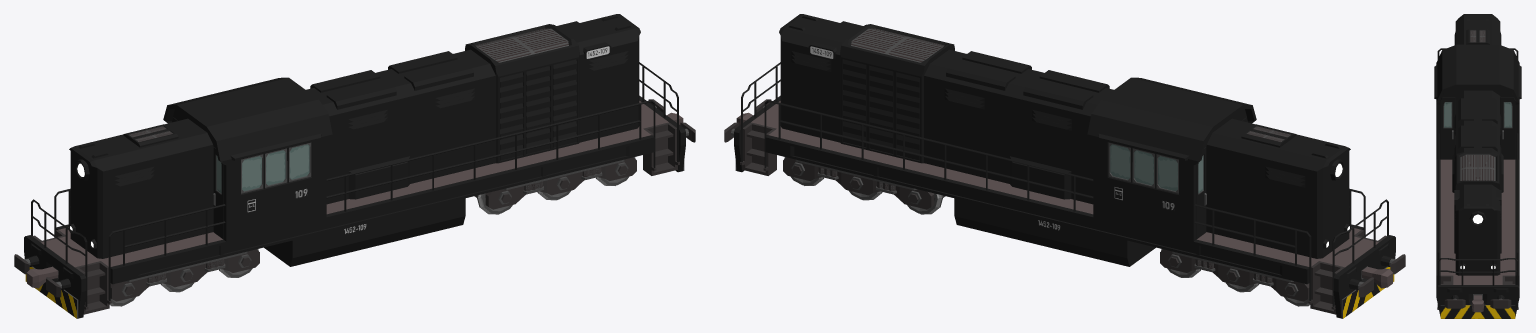
The model's file is train-locomotive.glb.
3 views of the same model, side by side, from view 1: azimuth 30°, elevation 25°; view 2: azimuth 150°, elevation 25°; view 3: azimuth 270°, elevation 25° (orthographic). The views are drawn at different scales.
Visible parts, largest first — view 1: Base_B.001, DriveTruck.002, DriveTruck.001; view 2: Base_B.001, DriveTruck.002, DriveTruck.001; view 3: Base_B.001.
Part boxes in pixels (x1,y1,x2,y2): Base_B.001: [14, 14, 695, 318]; DriveTruck.002: [474, 157, 636, 214]; DriveTruck.001: [109, 249, 259, 306]; Base_B.001: [724, 14, 1405, 318]; DriveTruck.002: [783, 157, 945, 214]; DriveTruck.001: [1160, 249, 1310, 306]; Base_B.001: [1434, 14, 1521, 318].
Size of the model in its own units: 19.69 by 4.63 by 3.15.
2 materials, 1 textured.
